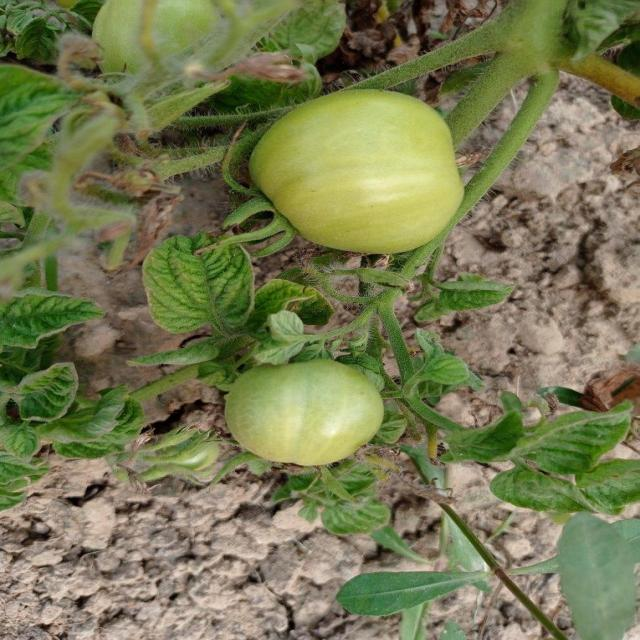Unripe: (245, 85, 462, 256), (222, 348, 382, 466)
